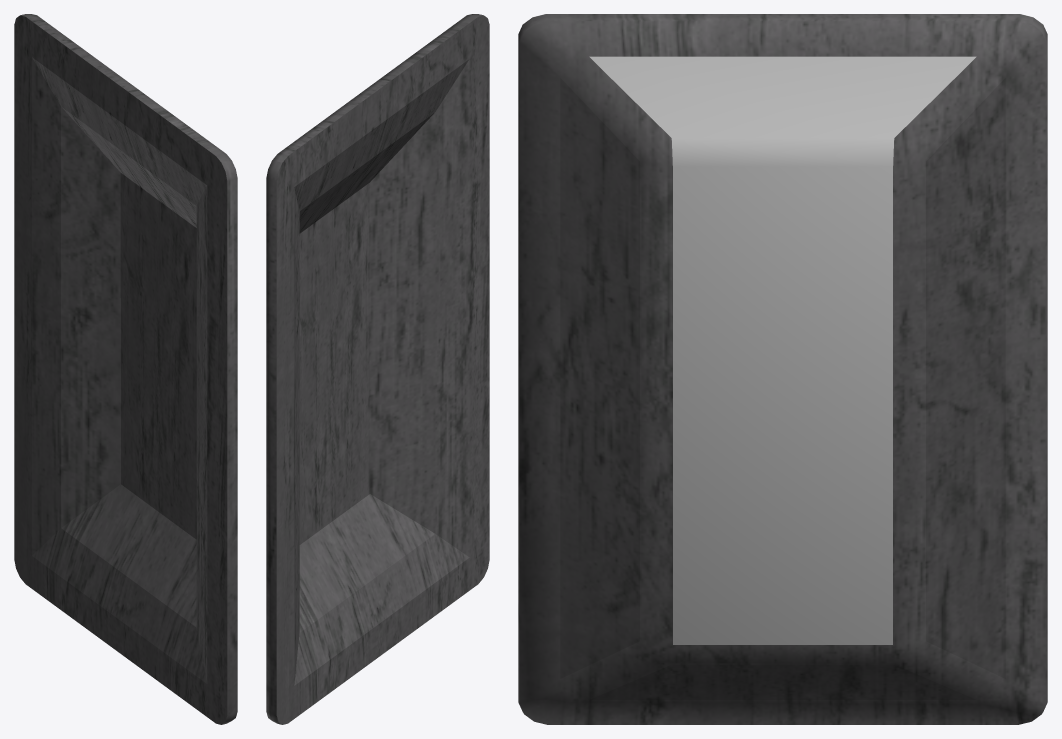
Rendered from p6_fuse_box_lid_b_lod0.glb.
The picture shows the model from 3 angles, left to right: view 1: azimuth 30°, elevation 25°; view 2: azimuth 150°, elevation 25°; view 3: azimuth 270°, elevation 25°; orthographic projection. The views are drawn at different scales.
Parts seen in each view (by area): view 1: surf0; view 2: surf0; view 3: surf0, surf1.
Part boxes in pixels (bbox=[...]): surf0: bbox=[14, 14, 237, 724]; surf0: bbox=[266, 14, 489, 724]; surf0: bbox=[518, 14, 1047, 724]; surf1: bbox=[589, 56, 976, 644].
Bounding box in the file's own units: 2.76 × 23.17 × 15.76.
